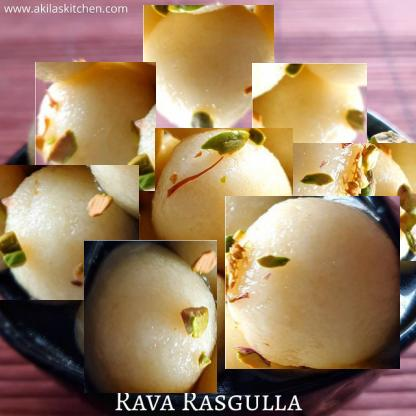rasgulla: (225, 195, 400, 370), (79, 245, 222, 389), (155, 128, 293, 272), (0, 162, 137, 302), (143, 4, 274, 138), (33, 64, 159, 189), (295, 140, 416, 264), (252, 63, 367, 178)
